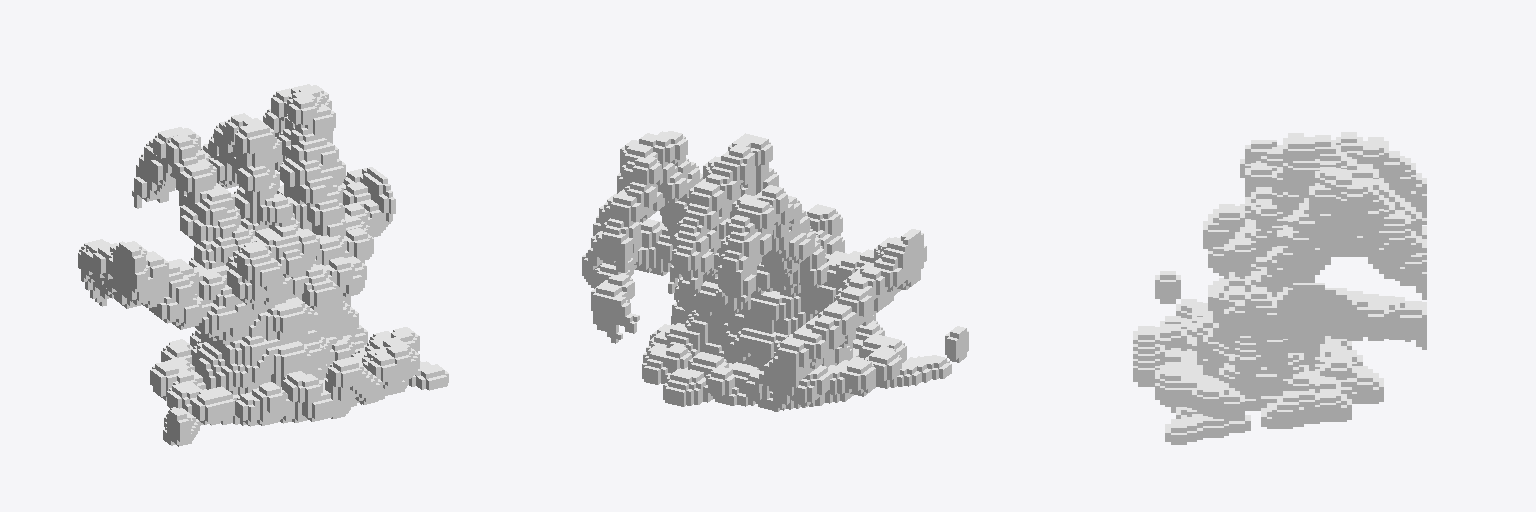
Rendered from Hidra.obj.
The picture shows the model from 3 angles: view 1: azimuth 30°, elevation 25°; view 2: azimuth 150°, elevation 25°; view 3: azimuth 270°, elevation 25°; orthographic projection.
Visible parts, largest first — view 1: object 1; view 2: object 1; view 3: object 1.
Boxes of the visible parts, box(x1,y1,x2,y2) form: object 1: box(78, 84, 448, 446); object 1: box(582, 131, 968, 411); object 1: box(1133, 132, 1426, 444).
Size of the model in its own units: 6 by 5 by 5.5.